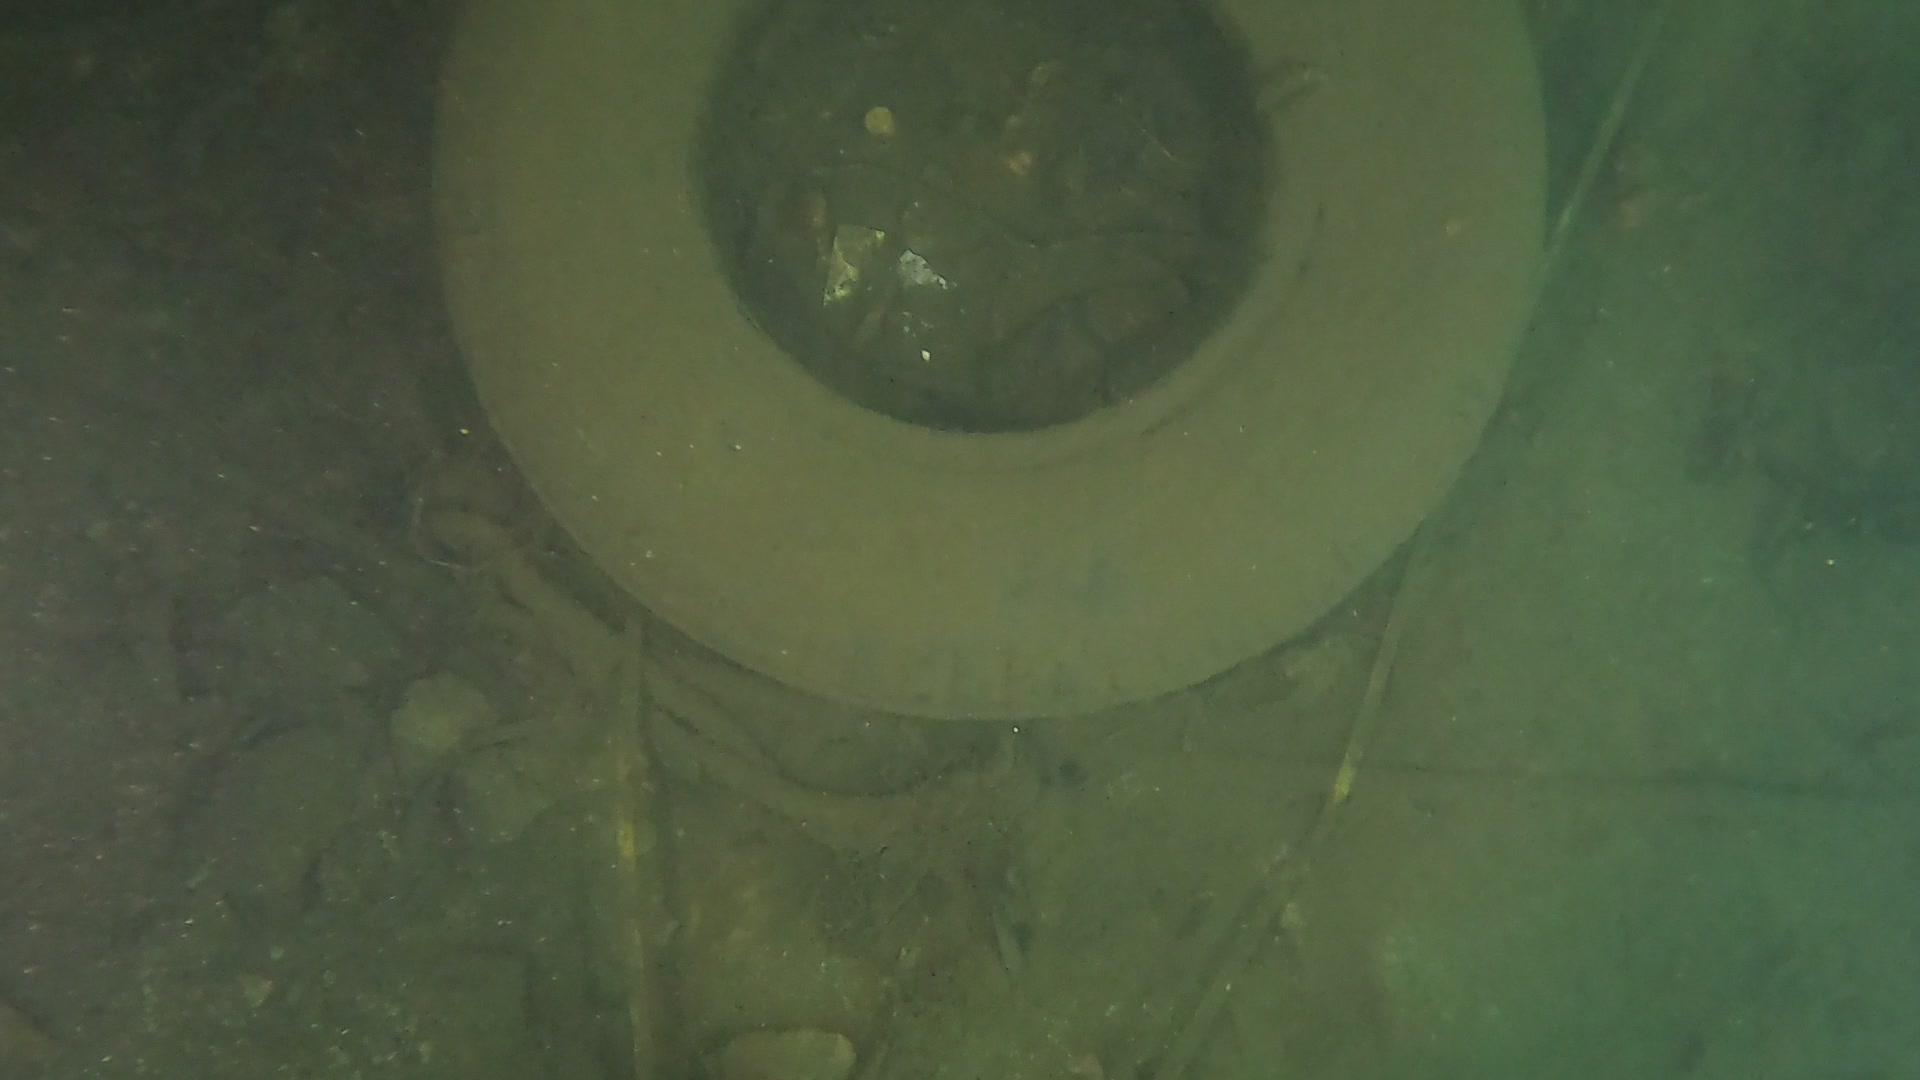bundle of ropes: (423, 506, 985, 851)
tire: (426, 0, 1549, 719)
